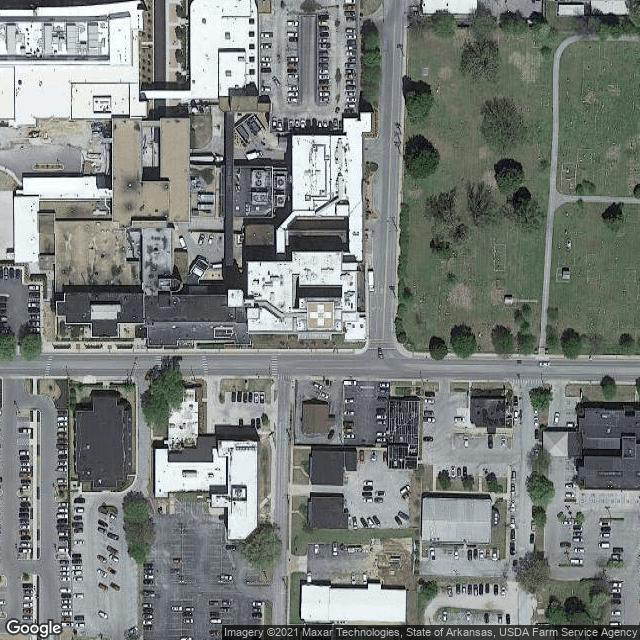Helipad: (306, 300, 334, 329)
